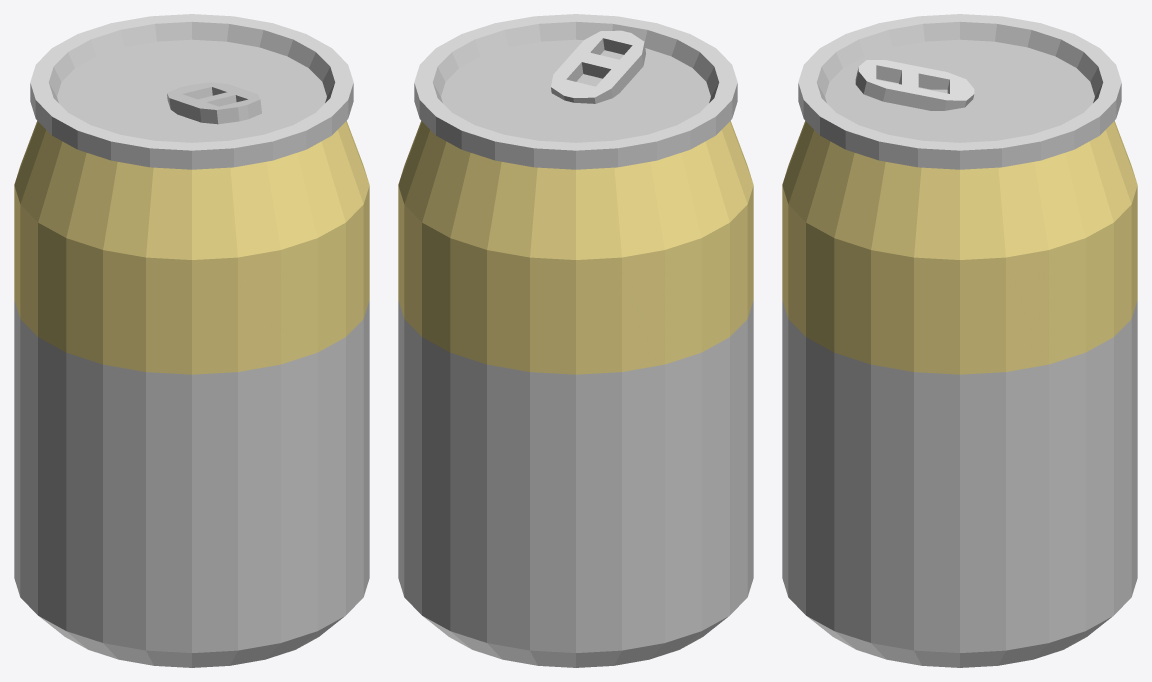
The model's file is Pop Can.fbx.
3 renders of one model, left to right at view 1: azimuth 30°, elevation 25°; view 2: azimuth 150°, elevation 25°; view 3: azimuth 270°, elevation 25°, orthographic.
Parts seen in each view (by area): view 1: Pop Can; view 2: Pop Can; view 3: Pop Can.
Boxes of the visible parts, x1,y1,x2,y2 form: Pop Can: [14, 14, 369, 667]; Pop Can: [398, 14, 753, 667]; Pop Can: [782, 14, 1137, 667].
Size of the model in its own units: 0.0762 by 0.1271 by 0.0762.
